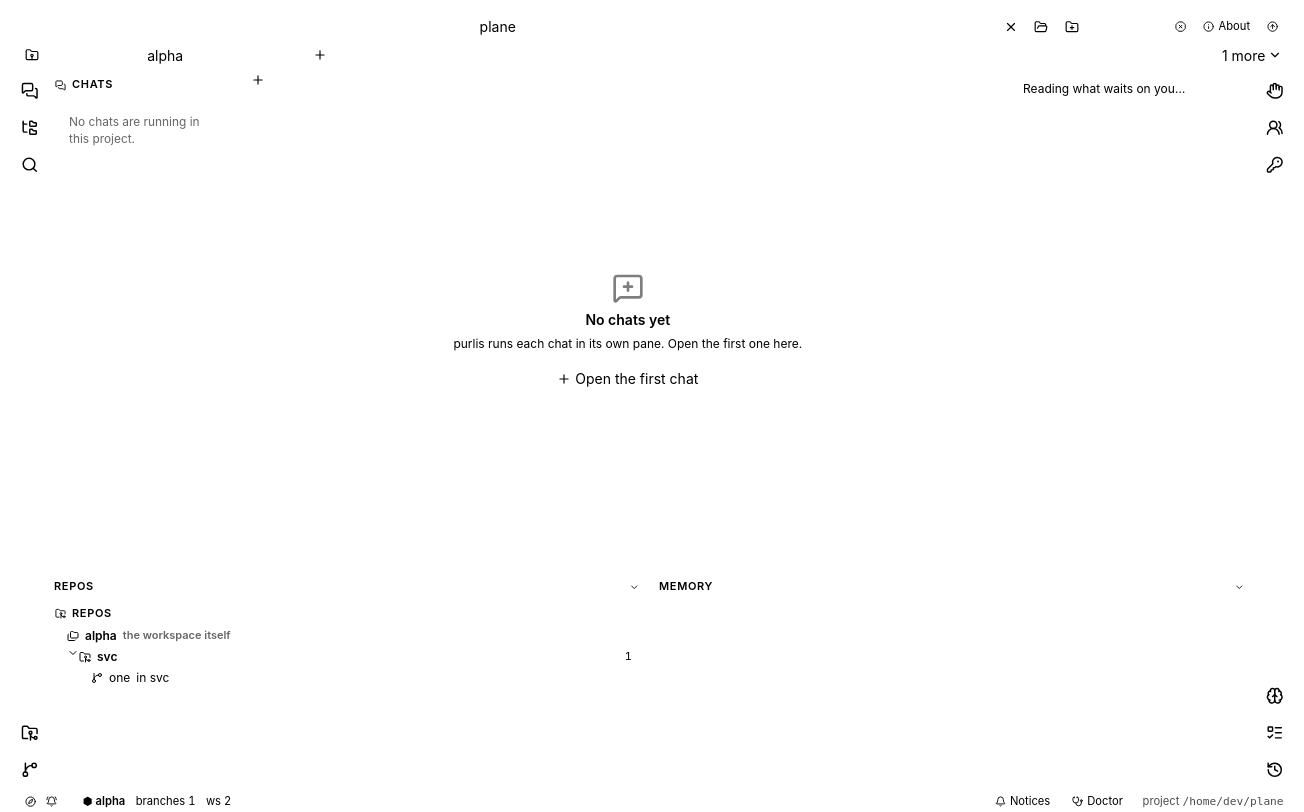
Test: Explorer in sections (#1677) › draws the picked branch's files in Files, and each repo's own folder before one is picked
Click the tab named "Explorer".
click(30, 128)  # box [12, 110, 47, 145]
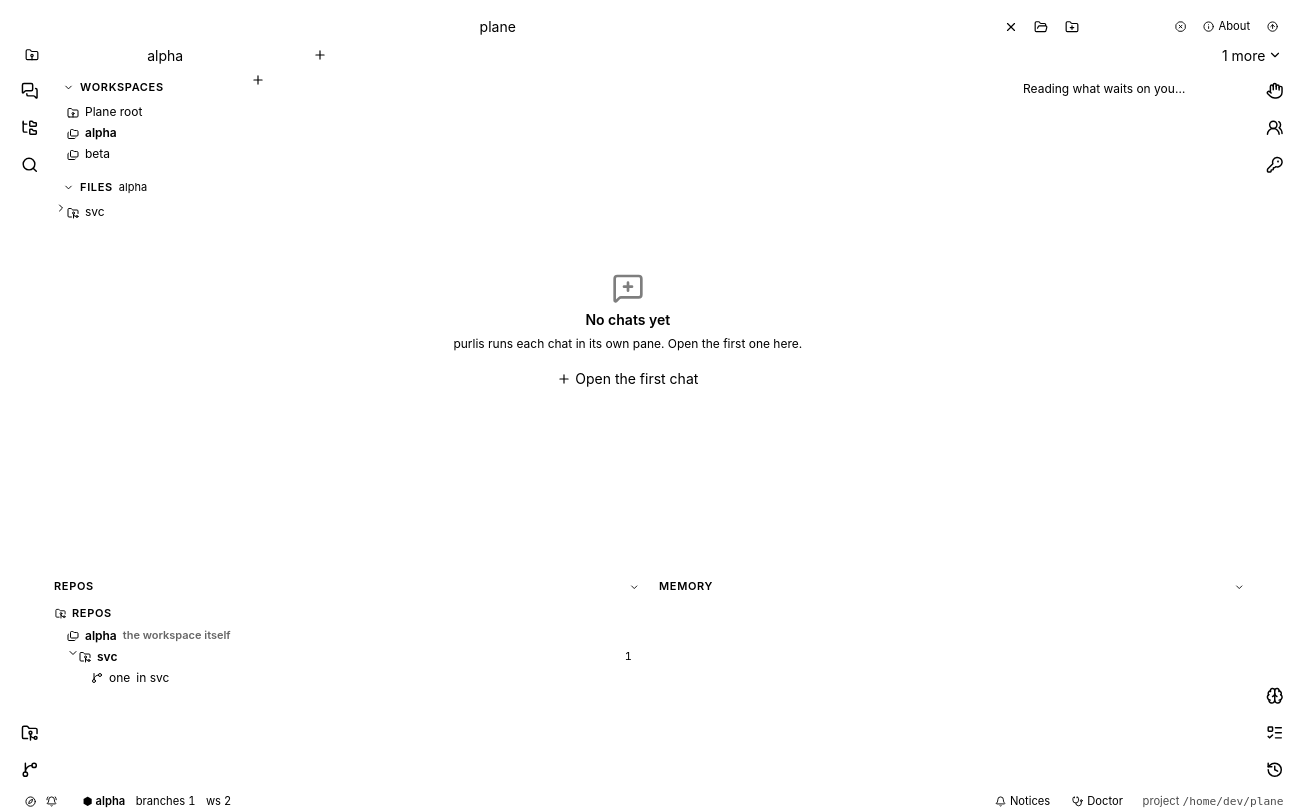
Expected: the element with test id "clone-svc" is shown, [55, 646, 644, 688]
Click the list item "one in svc".
click(97, 678)  # box [55, 668, 644, 688]
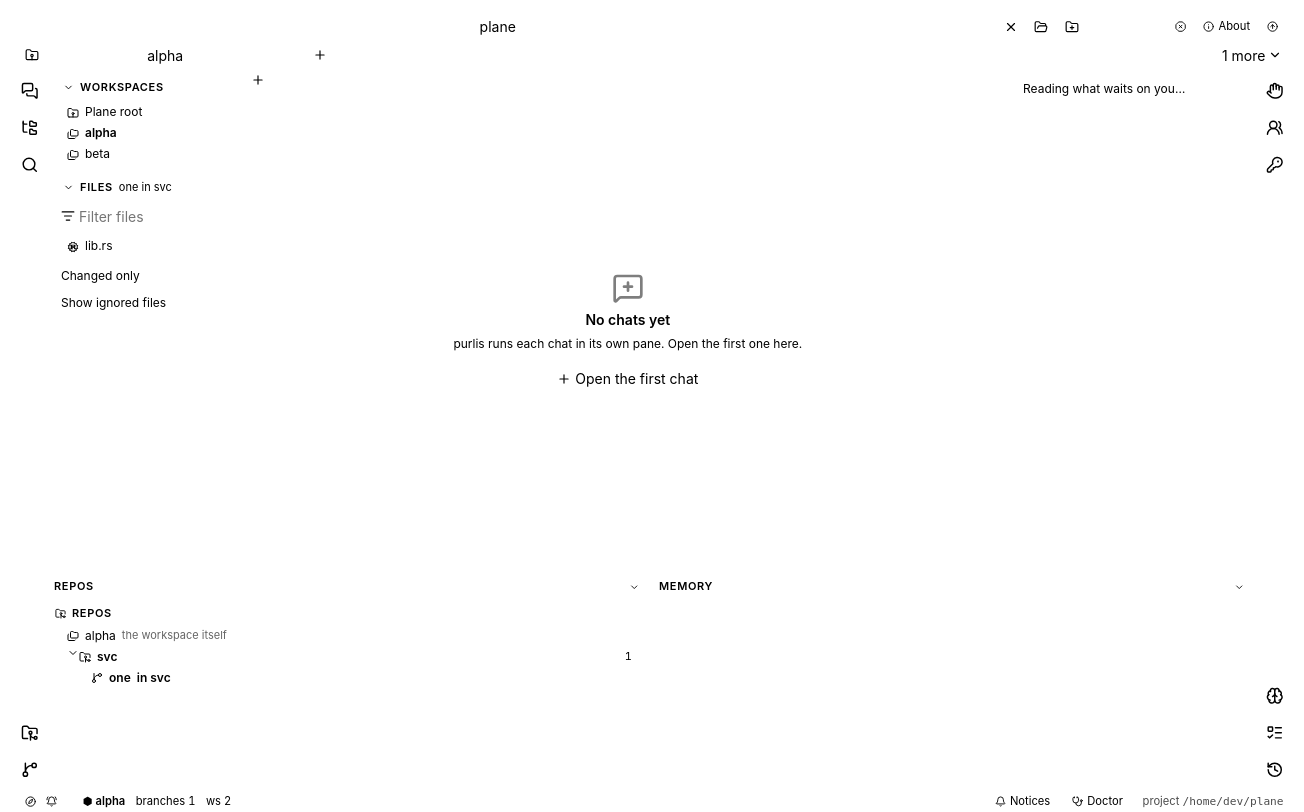
Expected: the list item "lib.rs" is shown, [55, 236, 233, 257]
